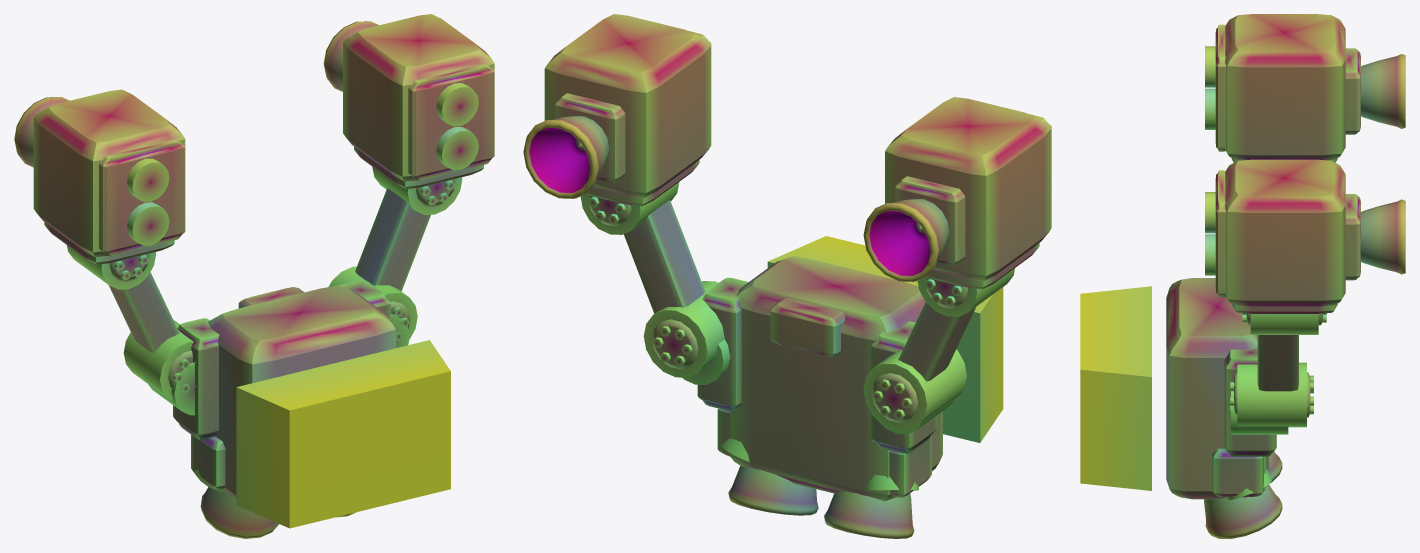
The model's file is llm_gen_dorsal_pack_056_f1095b.glb.
The picture shows the model from 3 angles, left to right: view 1: azimuth 30°, elevation 25°; view 2: azimuth 150°, elevation 25°; view 3: azimuth 270°, elevation 25°; orthographic projection. The views are drawn at different scales.
Parts seen in each view (by area): view 1: mounting_dovetail_plug, adapter_dorsal_spine_dark, salvo_pod_box_6_cobalt_anodized_l, salvo_pod_box_6_cobalt_anodized_r, salvo_face_frame_7_optic_cyan_l, salvo_face_frame_7_optic_cyan_r, salvo_mount_pylon_2_adapter_dark_r, adapter_dorsal_outrigger_dark_l, salvo_mount_pylon_2_adapter_dark_l, adapter_sub_pylon_drum_dark_0_adapter_dark_l, lower_boost_bell_12_vernier_bell_vernier_l, adapter_lower_tank_pylon_dark_14_adapter_dark_l (+13 smaller); view 2: adapter_dorsal_spine_dark, salvo_pod_box_6_cobalt_anodized_r, salvo_pod_box_6_cobalt_anodized_l, mounting_dovetail_plug, exhaust_vernier_11_vernier_bell_vernier_l, exhaust_vernier_11_vernier_bell_vernier_r, salvo_mount_pylon_2_adapter_dark_r, adapter_sub_pylon_drum_dark_0_adapter_dark_l, adapter_dorsal_outrigger_dark_r, adapter_dorsal_latch_gold, lower_boost_bell_12_vernier_bell_vernier_l, salvo_mount_pylon_2_adapter_dark_l (+13 smaller); view 3: salvo_pod_box_6_cobalt_anodized_r, salvo_pod_box_6_cobalt_anodized_l, mounting_dovetail_plug, adapter_dorsal_spine_dark, adapter_sub_pylon_drum_dark_0_adapter_dark_r, exhaust_vernier_11_vernier_bell_vernier_r, exhaust_vernier_11_vernier_bell_vernier_l, lower_boost_bell_12_vernier_bell_vernier_r, salvo_mount_pylon_2_adapter_dark_r, adapter_dorsal_outrigger_dark_r, adapter_lower_tank_pylon_dark_14_adapter_dark_r, adapter_sub_upper_drum_dark_3_adapter_dark_r (+10 smaller).
Part boxes in pixels (<box>): mounting_dovetail_plug: <box>236,340,450,528</box>; adapter_dorsal_spine_dark: <box>208,285,395,498</box>; salvo_pod_box_6_cobalt_anodized_l: <box>33,89,185,256</box>; salvo_pod_box_6_cobalt_anodized_r: <box>343,14,494,181</box>; salvo_face_frame_7_optic_cyan_l: <box>99,139,185,255</box>; salvo_face_frame_7_optic_cyan_r: <box>408,64,494,180</box>; salvo_mount_pylon_2_adapter_dark_r: <box>355,188,430,291</box>; adapter_dorsal_outrigger_dark_l: <box>173,318,219,439</box>; salvo_mount_pylon_2_adapter_dark_l: <box>109,272,179,352</box>; adapter_sub_pylon_drum_dark_0_adapter_dark_l: <box>123,319,193,400</box>; lower_boost_bell_12_vernier_bell_vernier_l: <box>200,487,278,538</box>; adapter_lower_tank_pylon_dark_14_adapter_dark_l: <box>191,435,225,489</box>; adapter_dorsal_spine_dark: <box>730,256,942,501</box>; salvo_pod_box_6_cobalt_anodized_r: <box>544,14,711,198</box>; salvo_pod_box_6_cobalt_anodized_l: <box>885,97,1051,281</box>; mounting_dovetail_plug: <box>767,236,1003,442</box>; exhaust_vernier_11_vernier_bell_vernier_l: <box>863,199,949,281</box>; exhaust_vernier_11_vernier_bell_vernier_r: <box>523,116,609,198</box>; salvo_mount_pylon_2_adapter_dark_r: <box>623,200,705,313</box>; adapter_sub_pylon_drum_dark_0_adapter_dark_l: <box>863,349,966,431</box>; adapter_dorsal_outrigger_dark_r: <box>697,277,748,411</box>; adapter_dorsal_latch_gold: <box>770,298,844,356</box>; lower_boost_bell_12_vernier_bell_vernier_l: <box>824,491,914,538</box>; salvo_mount_pylon_2_adapter_dark_l: <box>898,302,975,381</box>; salvo_pod_box_6_cobalt_anodized_r: <box>1225,159,1345,306</box>; salvo_pod_box_6_cobalt_anodized_l: <box>1225,14,1345,160</box>; mounting_dovetail_plug: <box>1080,286,1151,490</box>; adapter_dorsal_spine_dark: <box>1166,278,1268,499</box>; adapter_sub_pylon_drum_dark_0_adapter_dark_r: <box>1237,362,1306,427</box>; exhaust_vernier_11_vernier_bell_vernier_r: <box>1360,199,1405,274</box>; exhaust_vernier_11_vernier_bell_vernier_l: <box>1360,54,1405,128</box>; lower_boost_bell_12_vernier_bell_vernier_r: <box>1204,484,1282,538</box>; salvo_mount_pylon_2_adapter_dark_r: <box>1257,335,1298,391</box>; adapter_dorsal_outrigger_dark_r: <box>1224,348,1276,456</box>; adapter_lower_tank_pylon_dark_14_adapter_dark_r: <box>1212,448,1263,496</box>; adapter_sub_upper_drum_dark_3_adapter_dark_r: <box>1250,314,1318,334</box>.
Size of the model in its own units: 50.6 by 49.79 by 36.3.
